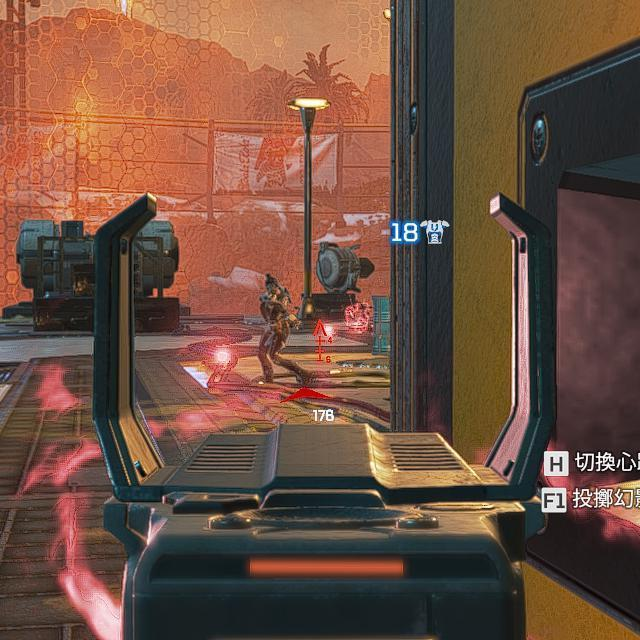avatar: (255, 271, 296, 383)
